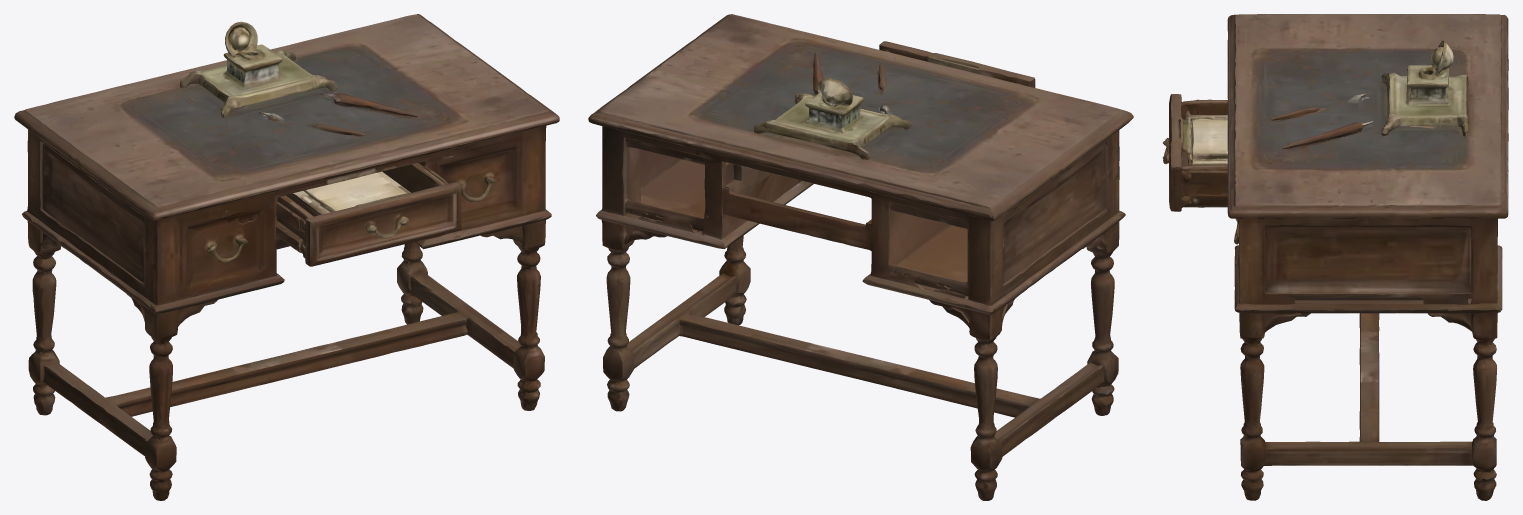
The model's file is obj_study_desk.glb.
3 renders of one model, left to right at view 1: azimuth 30°, elevation 25°; view 2: azimuth 150°, elevation 25°; view 3: azimuth 270°, elevation 25°, orthographic.
Parts seen in each view (by area): view 1: geometry_0; view 2: geometry_0; view 3: geometry_0.
Boxes of the visible parts, x1=… form: geometry_0: x1=14, y1=14, x2=559, y2=500; geometry_0: x1=588, y1=14, x2=1133, y2=500; geometry_0: x1=1162, y1=14, x2=1508, y2=500.
Bounding box in the file's own units: 1.2 × 1.02 × 0.8849.
Materials: 1 (1 with a texture image).
